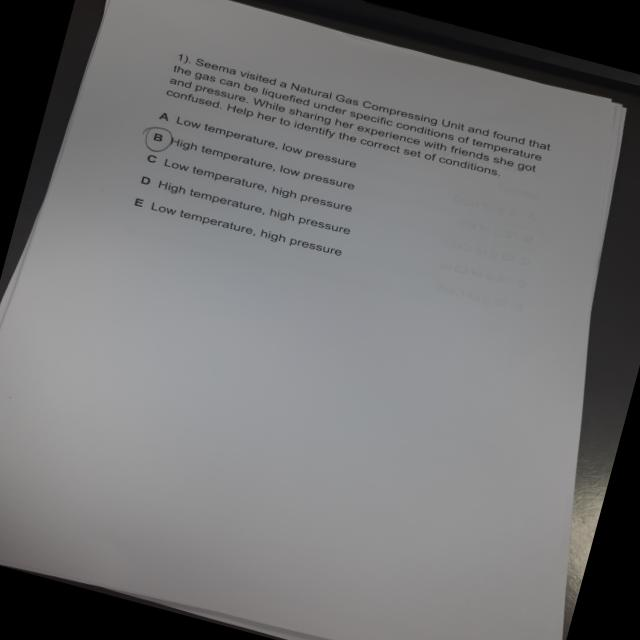B: (136, 122, 178, 156)
